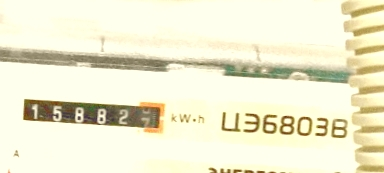1: (28, 101, 40, 120)
2: (116, 106, 129, 124)
5: (49, 103, 63, 121)
7: (138, 114, 150, 128)
8: (72, 104, 85, 122), (95, 106, 107, 123)
screen: (14, 86, 172, 138)
